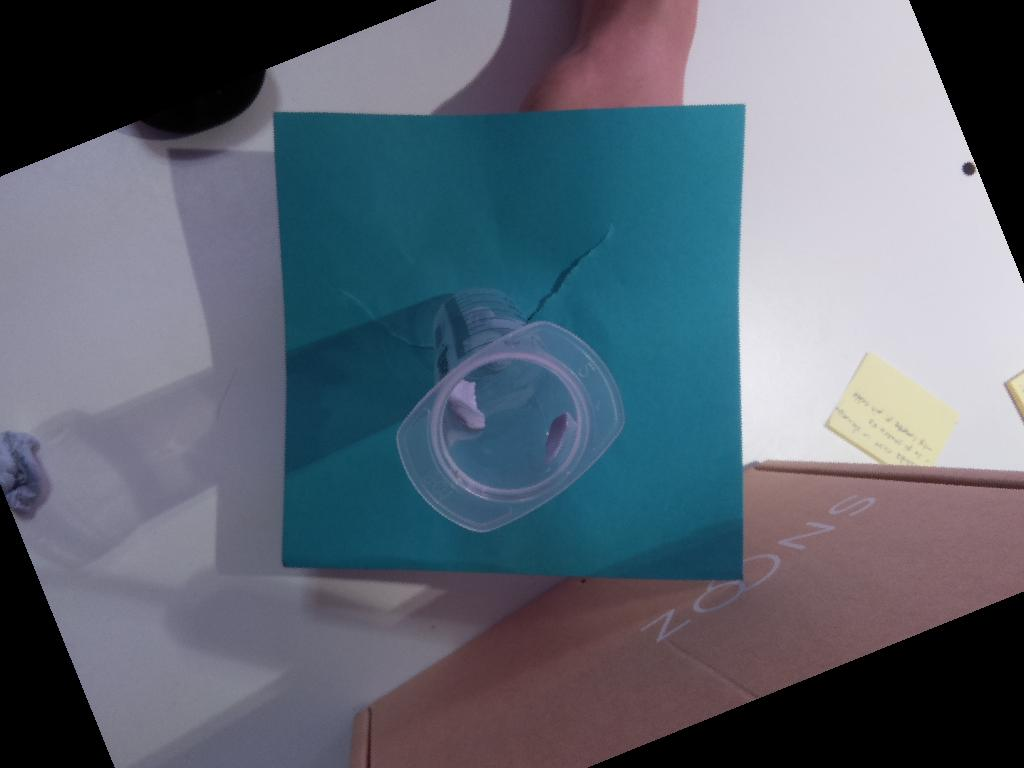dirty: (395, 321, 624, 530)
